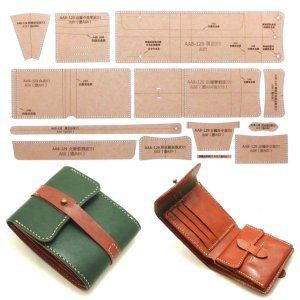cuero: (7, 163, 294, 295)
